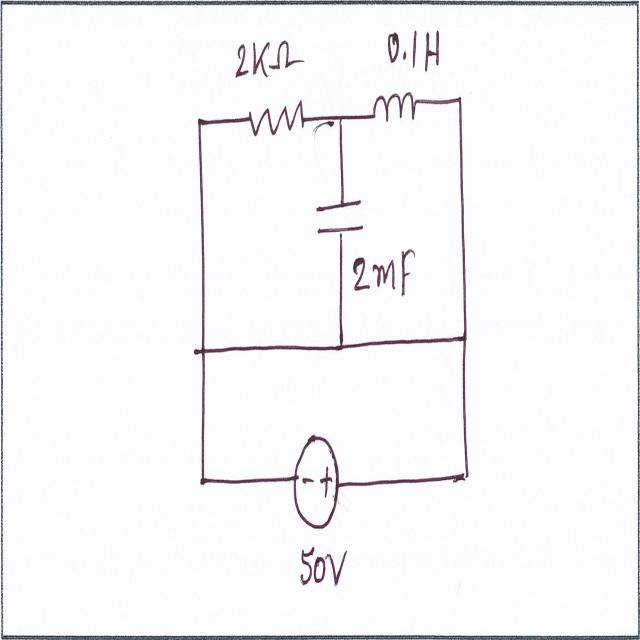capacitor: (315, 190, 369, 246)
inductor: (369, 80, 425, 139)
resistor: (244, 94, 314, 146)
voltage_source: (288, 422, 346, 538)
